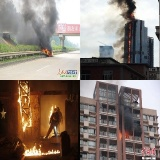fire: (18, 82, 33, 130), (24, 144, 60, 156), (49, 105, 58, 127), (119, 128, 130, 141), (41, 46, 53, 57), (128, 24, 131, 63), (129, 13, 136, 21)
